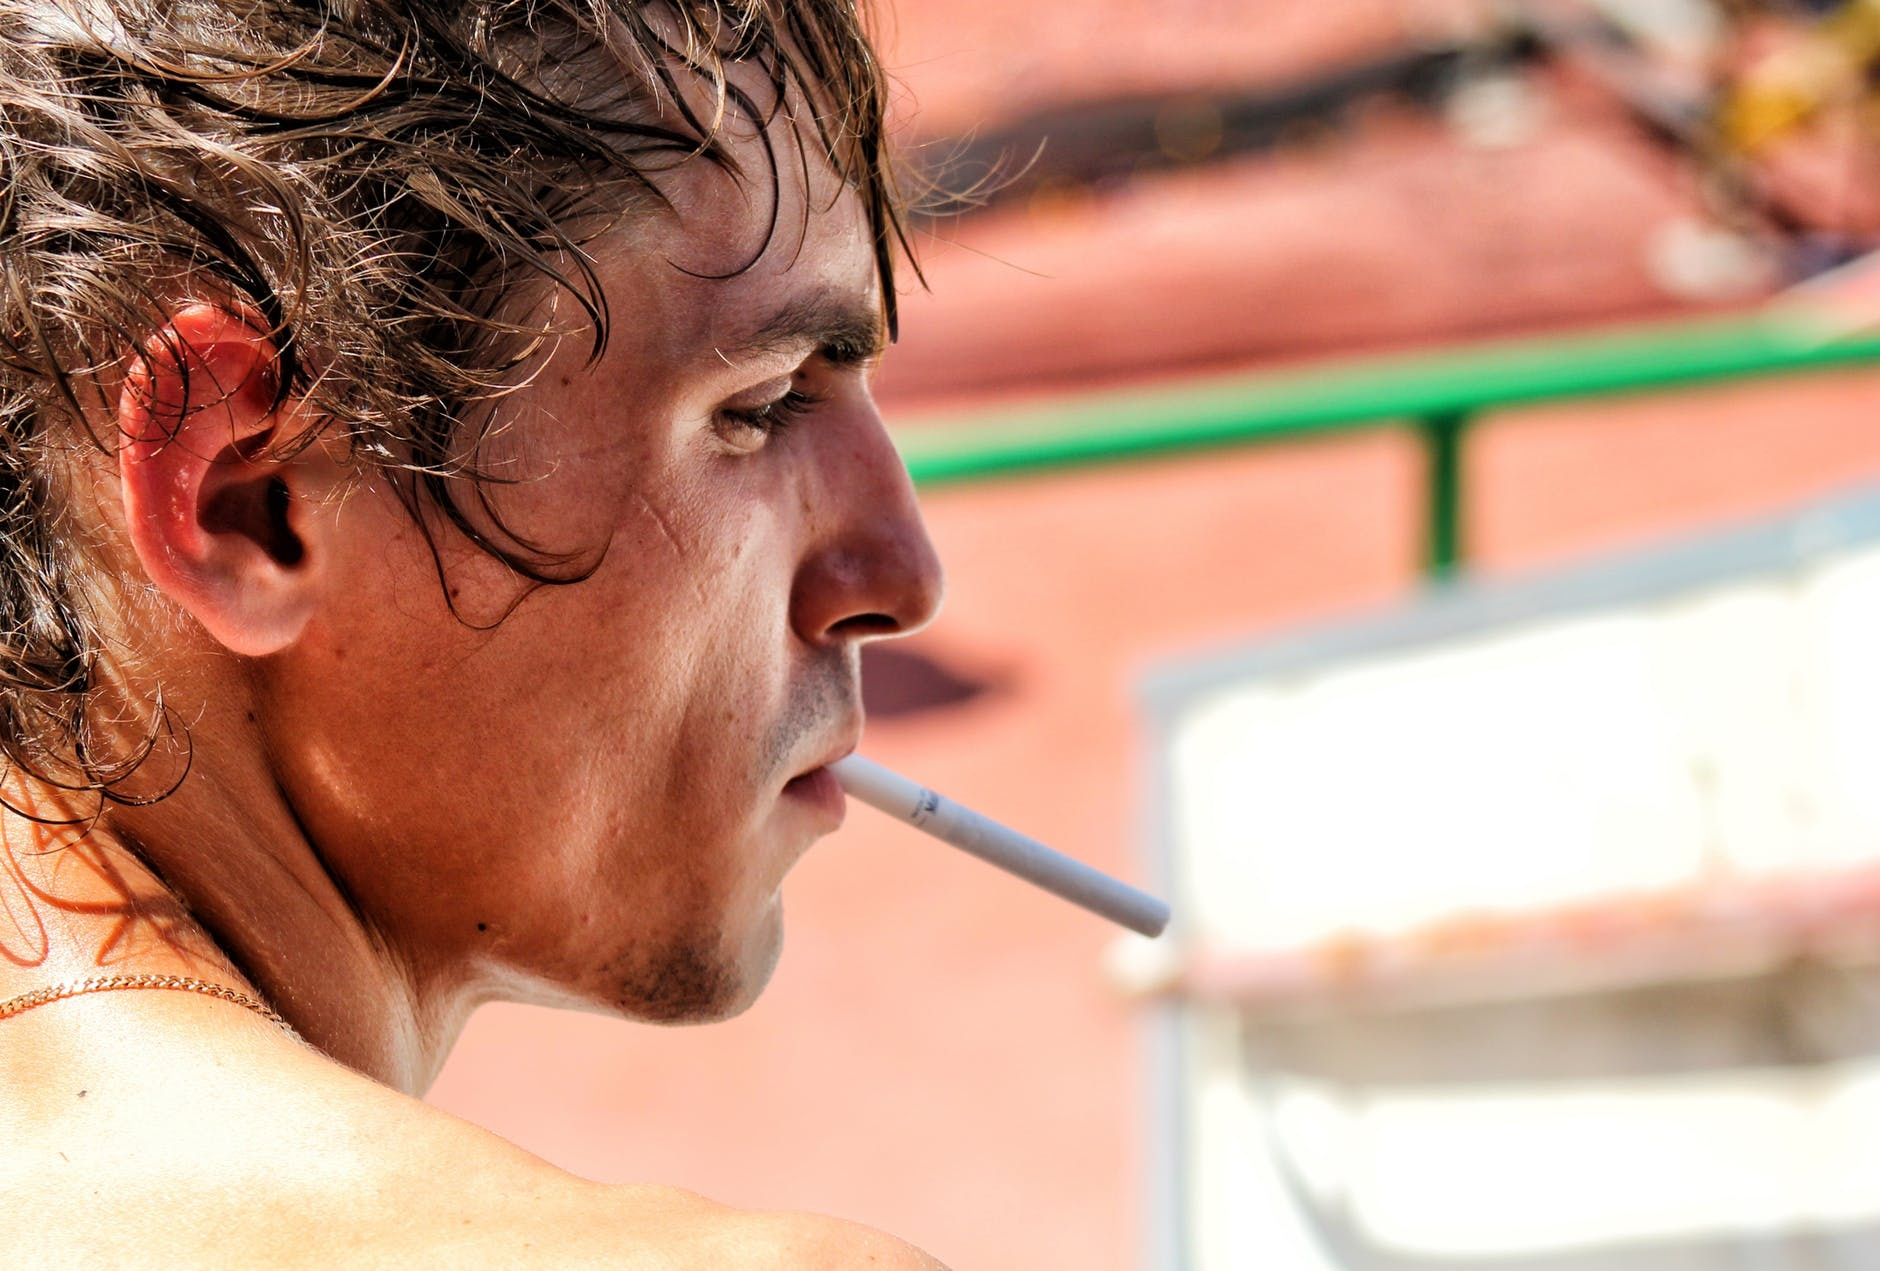sigaretta: (828, 755, 1178, 942)
